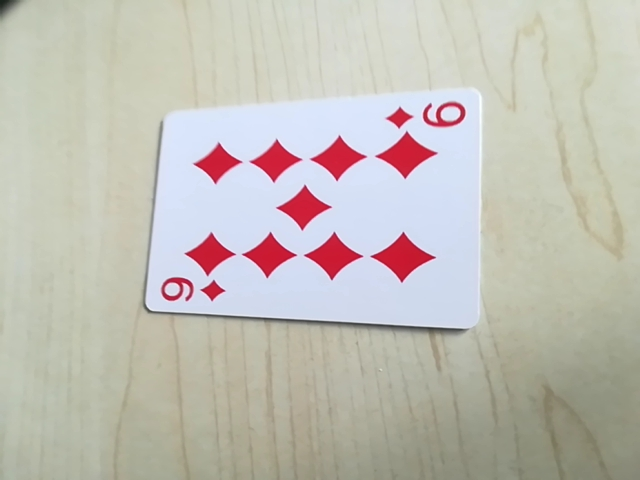fk 9: (382, 93, 469, 136), (156, 274, 231, 311)
